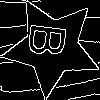B: (27, 22, 77, 60)
